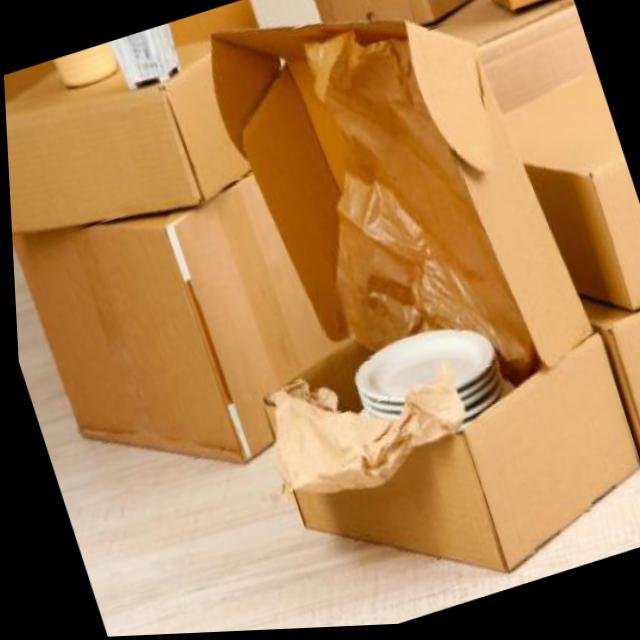box: (135, 0, 640, 635), (5, 111, 433, 548), (1, 11, 276, 252)
